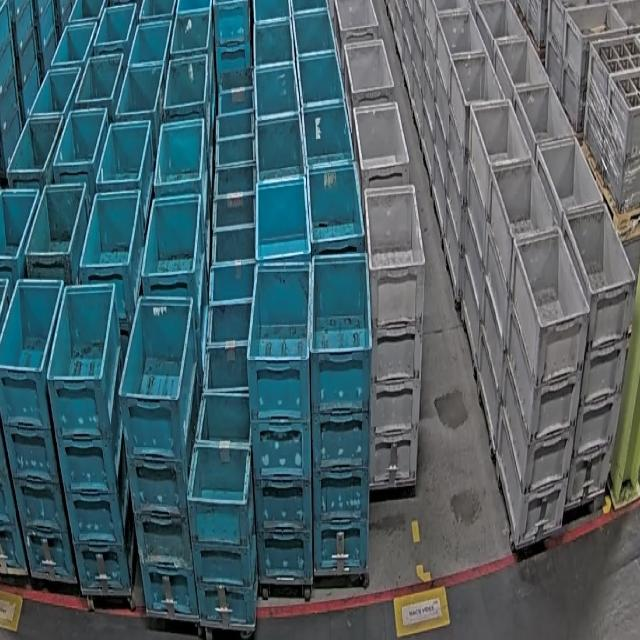4G: (496, 228, 590, 548), (560, 202, 636, 511), (364, 188, 425, 485)
B4: (47, 274, 134, 598), (119, 297, 200, 622), (0, 280, 78, 585), (247, 262, 313, 585), (310, 253, 372, 572)
B8: (187, 390, 255, 626)
